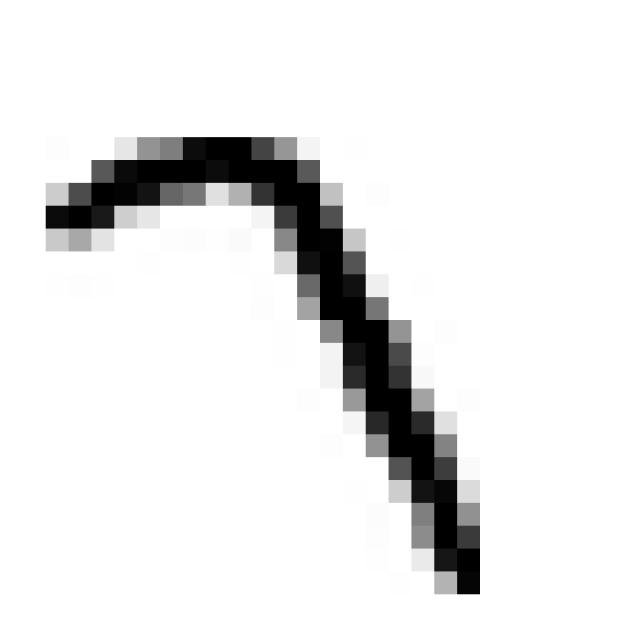6 -six-: (30, 114, 507, 613)
